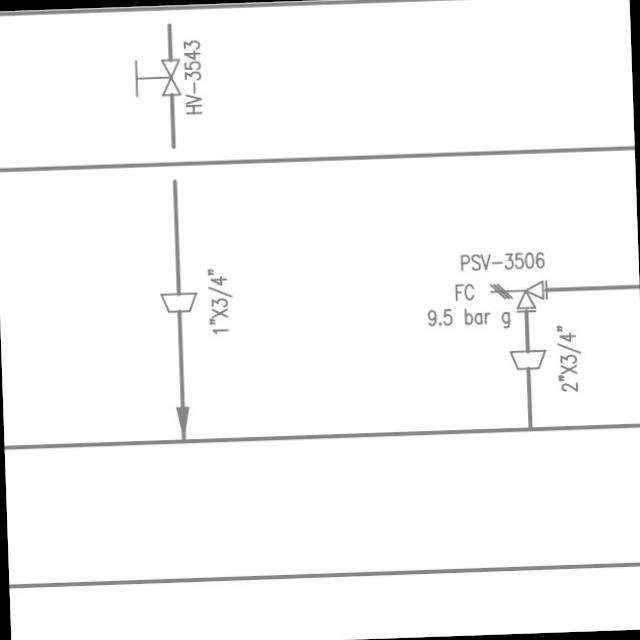HVWT: (124, 52, 182, 102)
RPV: (482, 272, 560, 316)
SP: (502, 341, 550, 374), (156, 288, 200, 316)
